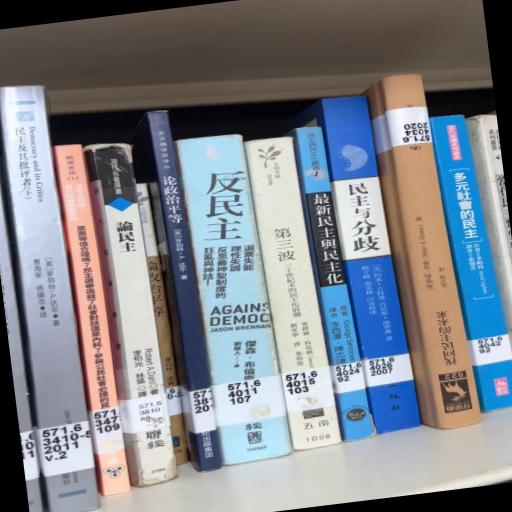reverse: (365, 76, 480, 430)
